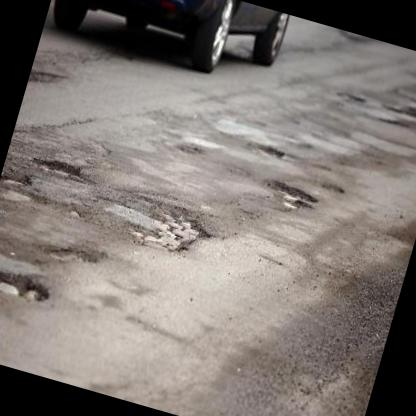pothole: (124, 198, 216, 268), (0, 251, 58, 314), (257, 176, 320, 220), (34, 151, 88, 184), (0, 167, 40, 209), (27, 63, 67, 94), (254, 142, 287, 161)
